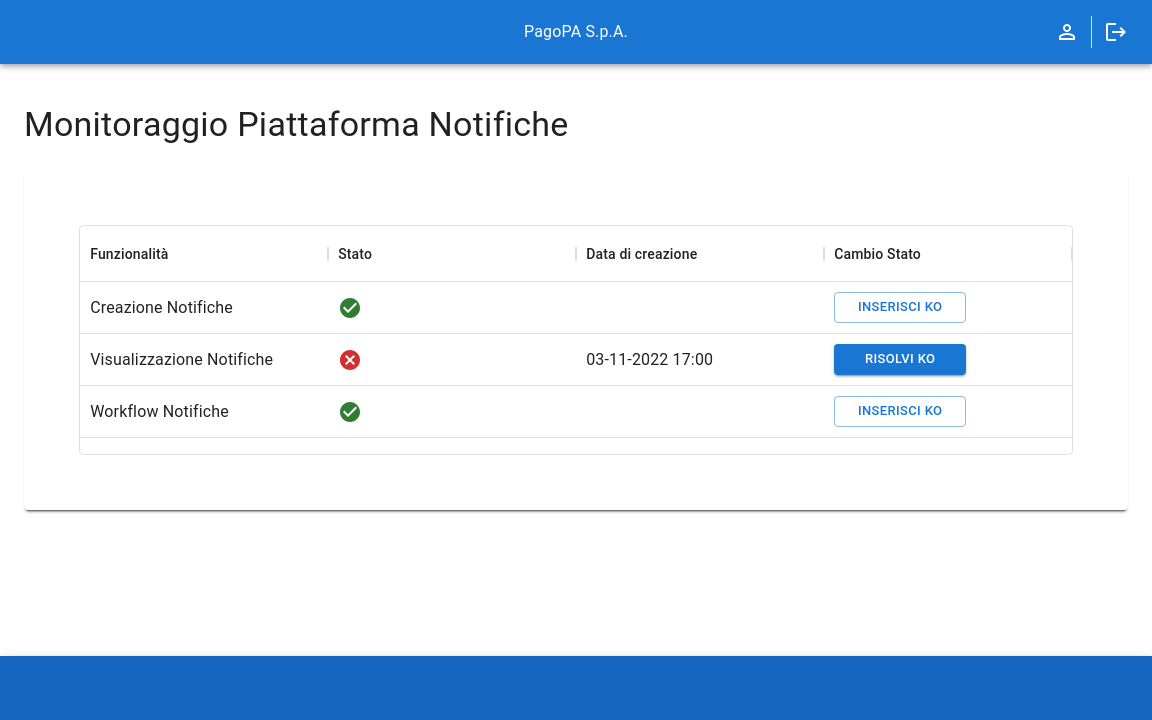
MonitorPage › click button to create an event KO
Click the button "Inserisci KO" in the row of "Creazione Notifiche".
click(900, 308)  # box [834, 292, 966, 323]
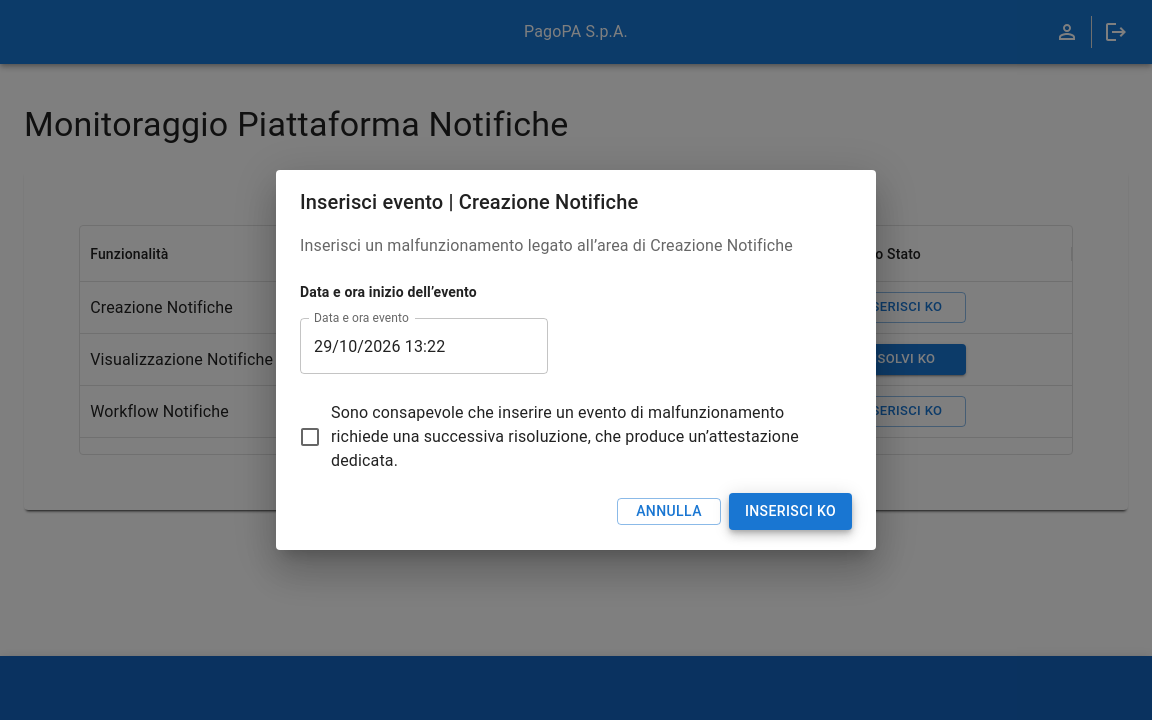
Expected: the element with test id "create-malfunction-dialog-testid" is shown
